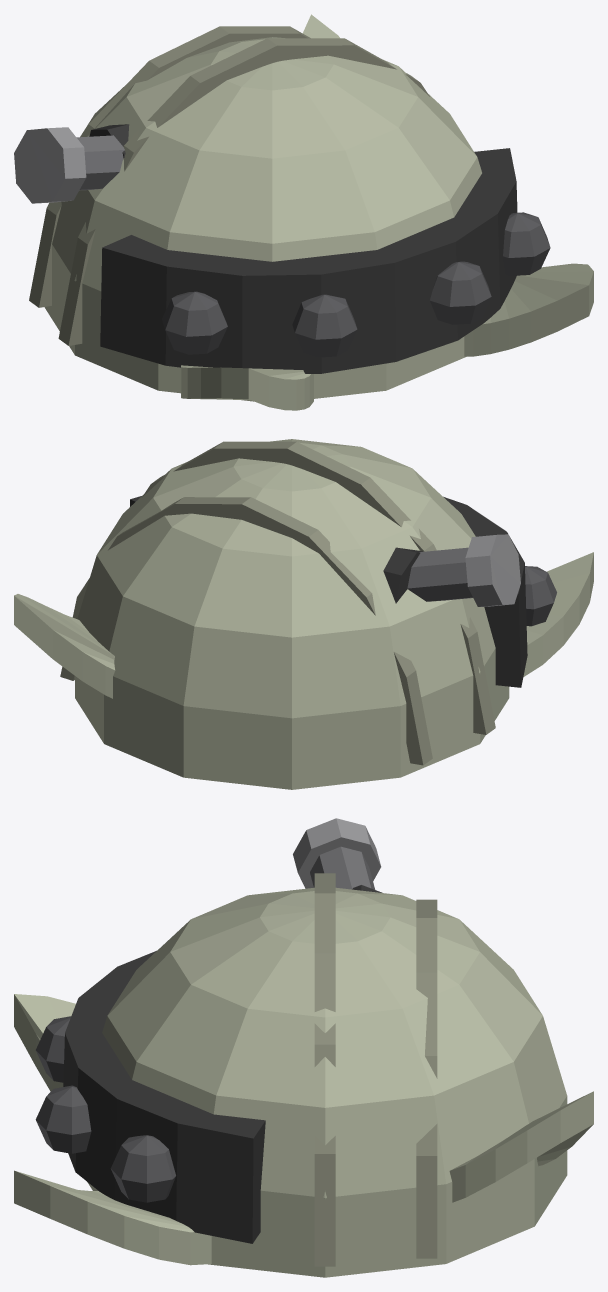
File: exostrider_head.obj
3 views of the same model, one above another, from view 1: azimuth 30°, elevation 25°; view 2: azimuth 150°, elevation 25°; view 3: azimuth 270°, elevation 25° (orthographic). The views are drawn at different scales.
Parts seen in each view (by area): view 1: exostrider_head_0, exostrider_head_3, exostrider_head_2, exostrider_head_12, exostrider_head_1, exostrider_head_11, exostrider_head_9, exostrider_head_4, exostrider_head_5, exostrider_head_6, exostrider_head_7, exostrider_head_8 (+1 smaller); view 2: exostrider_head_0, exostrider_head_1, exostrider_head_2, exostrider_head_13, exostrider_head_11, exostrider_head_3, exostrider_head_9, exostrider_head_8, exostrider_head_4, exostrider_head_10; view 3: exostrider_head_0, exostrider_head_3, exostrider_head_12, exostrider_head_2, exostrider_head_1, exostrider_head_13, exostrider_head_7, exostrider_head_6, exostrider_head_9, exostrider_head_11, exostrider_head_8, exostrider_head_5.
Boxes of the visible parts, left/top/right/bottom form: exostrider_head_0: left=44, top=37, right=481, bottom=401; exostrider_head_3: left=100, top=148, right=517, bottom=373; exostrider_head_2: left=58, top=38, right=429, bottom=345; exostrider_head_12: left=464, top=263, right=593, bottom=356; exostrider_head_1: left=29, top=26, right=310, bottom=307; exostrider_head_11: left=181, top=365, right=313, bottom=410; exostrider_head_9: left=14, top=127, right=86, bottom=203; exostrider_head_4: left=162, top=291, right=227, bottom=354; exostrider_head_5: left=292, top=294, right=357, bottom=357; exostrider_head_6: left=430, top=261, right=491, bottom=324; exostrider_head_7: left=503, top=212, right=550, bottom=275; exostrider_head_8: left=76, top=135, right=124, bottom=190; exostrider_head_0: left=75, top=439, right=509, bottom=789; exostrider_head_1: left=60, top=497, right=432, bottom=765; exostrider_head_2: left=142, top=441, right=495, bottom=734; exostrider_head_13: left=14, top=594, right=115, bottom=698; exostrider_head_11: left=523, top=552, right=593, bottom=676; exostrider_head_3: left=130, top=496, right=527, bottom=687; exostrider_head_9: left=465, top=534, right=520, bottom=606; exostrider_head_8: left=407, top=547, right=472, bottom=601; exostrider_head_4: left=525, top=566, right=556, bottom=626; exostrider_head_10: left=383, top=547, right=422, bottom=603; exostrider_head_0: left=87, top=887, right=567, bottom=1277; exostrider_head_3: left=63, top=950, right=265, bottom=1243; exostrider_head_12: left=14, top=1170, right=211, bottom=1265; exostrider_head_2: left=314, top=873, right=335, bottom=1266; exostrider_head_1: left=416, top=899, right=437, bottom=1258; exostrider_head_13: left=449, top=1091, right=593, bottom=1202; exostrider_head_7: left=110, top=1135, right=175, bottom=1202; exostrider_head_6: left=35, top=1085, right=91, bottom=1153; exostrider_head_9: left=293, top=818, right=381, bottom=888; exostrider_head_11: left=14, top=994, right=75, bottom=1091; exostrider_head_8: left=310, top=846, right=375, bottom=889; exostrider_head_5: left=35, top=1016, right=70, bottom=1082.
Bounding box in the file's own units: 1.81 × 1.03 × 1.92.
